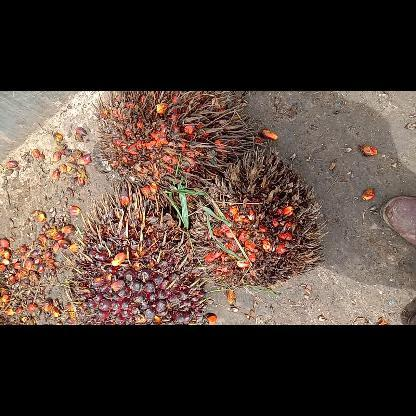TBS masak: (69, 192, 209, 324)
Terlalu masak: (188, 148, 328, 286), (92, 90, 254, 208)
